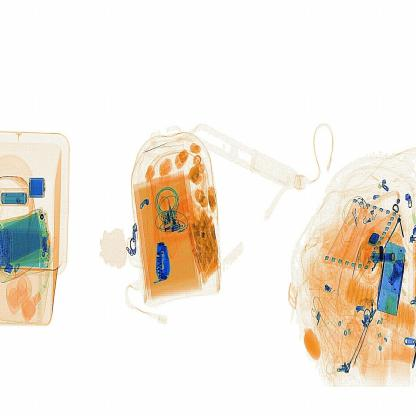scissors: (153, 238, 173, 288)
